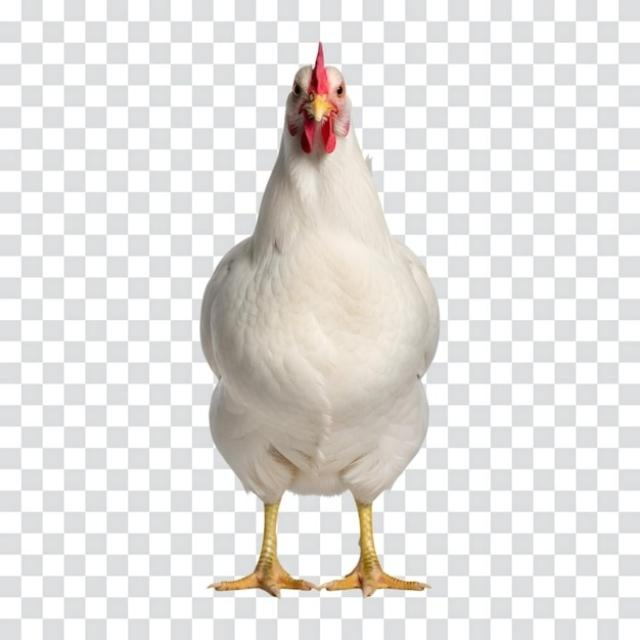Chicken: (197, 41, 440, 599)
